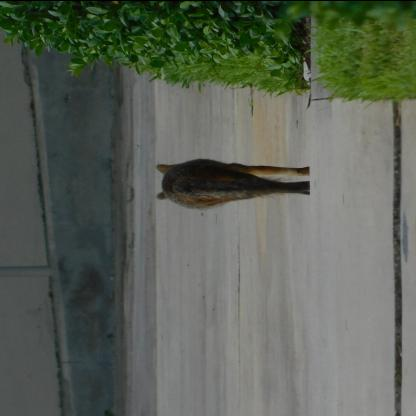zorro: (152, 152, 315, 210)
